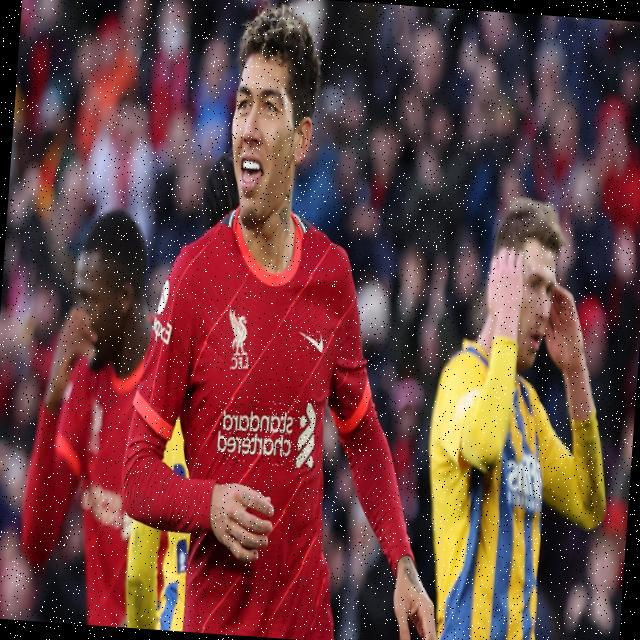Nike: (297, 330, 324, 352)
Standard Chartered: (215, 394, 317, 471)
